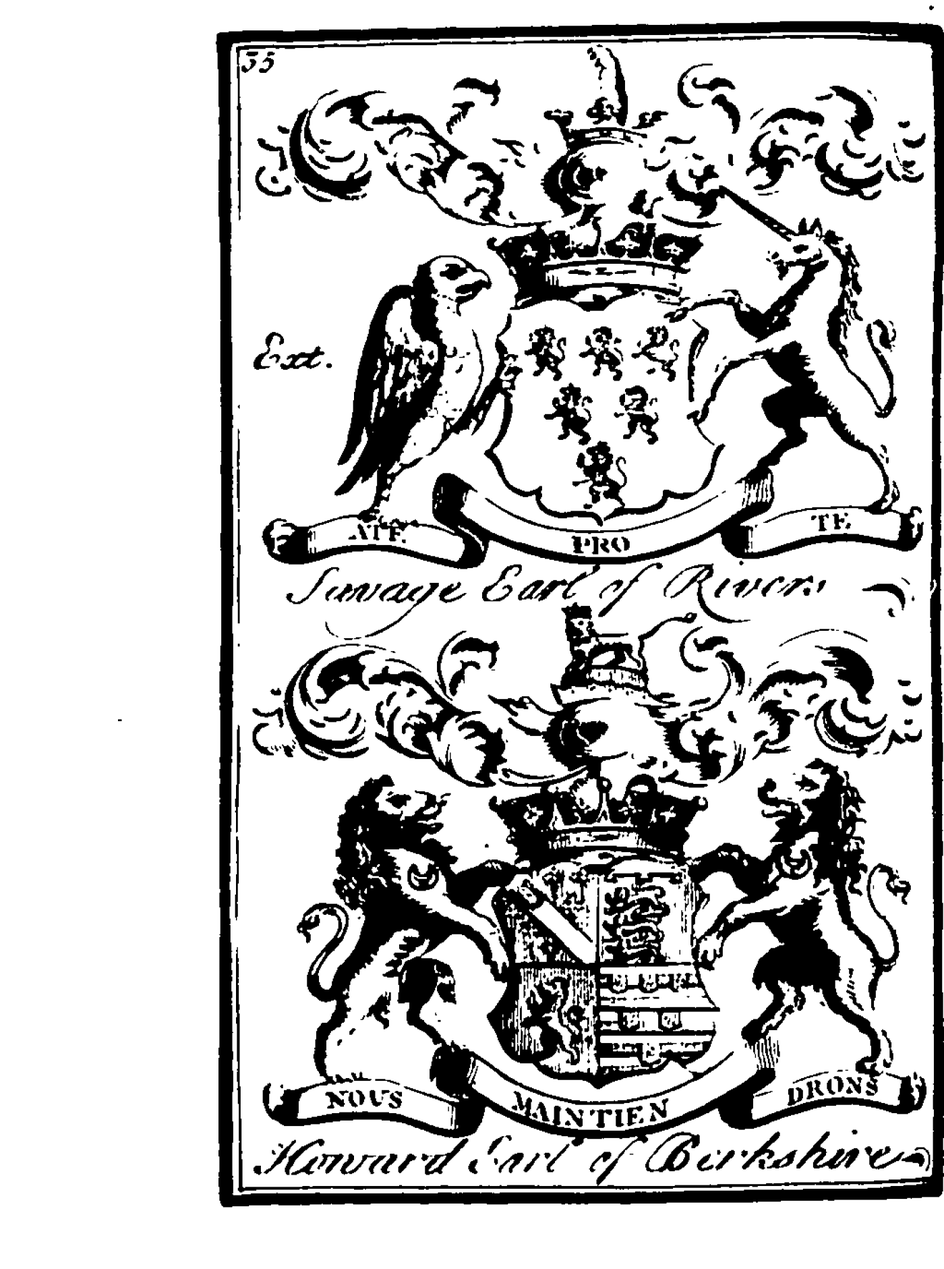coat_of_arms: (249, 51, 937, 615), (248, 611, 937, 1174)
